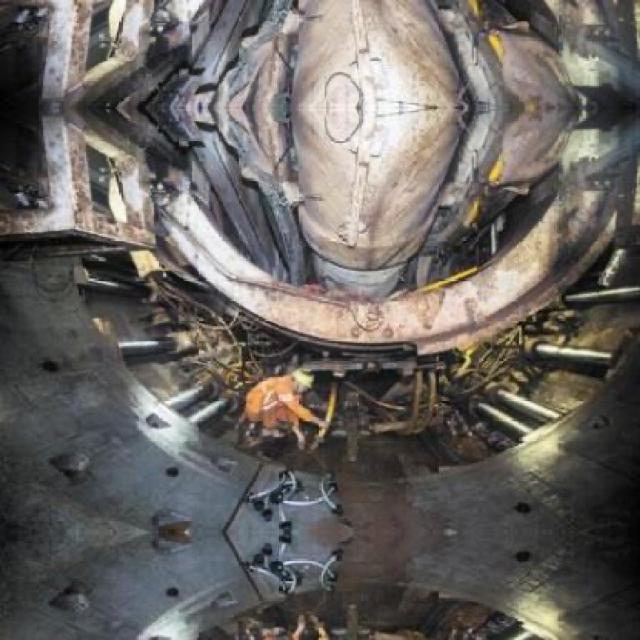helmet: (288, 366, 317, 396)
